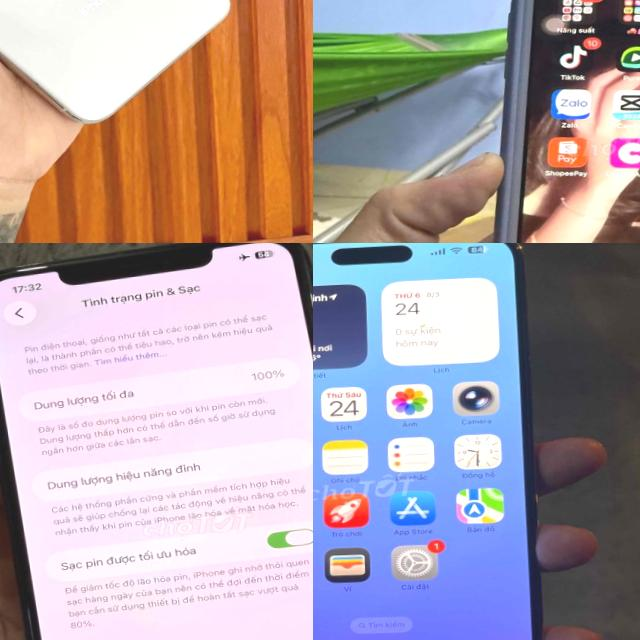gen_11: (0, 243, 313, 640)
gen_14: (313, 243, 555, 640)
gen_7_8: (450, 0, 640, 243)
gen_x_xs: (0, 0, 270, 142)
